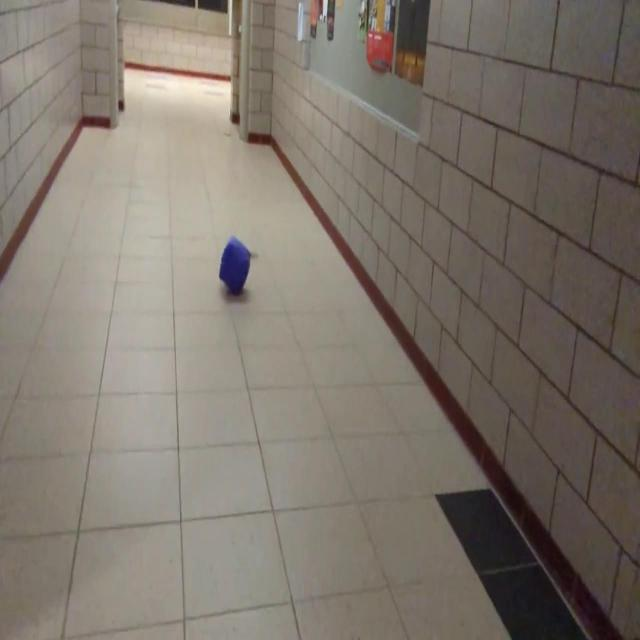frc_cube: (218, 232, 252, 294)
